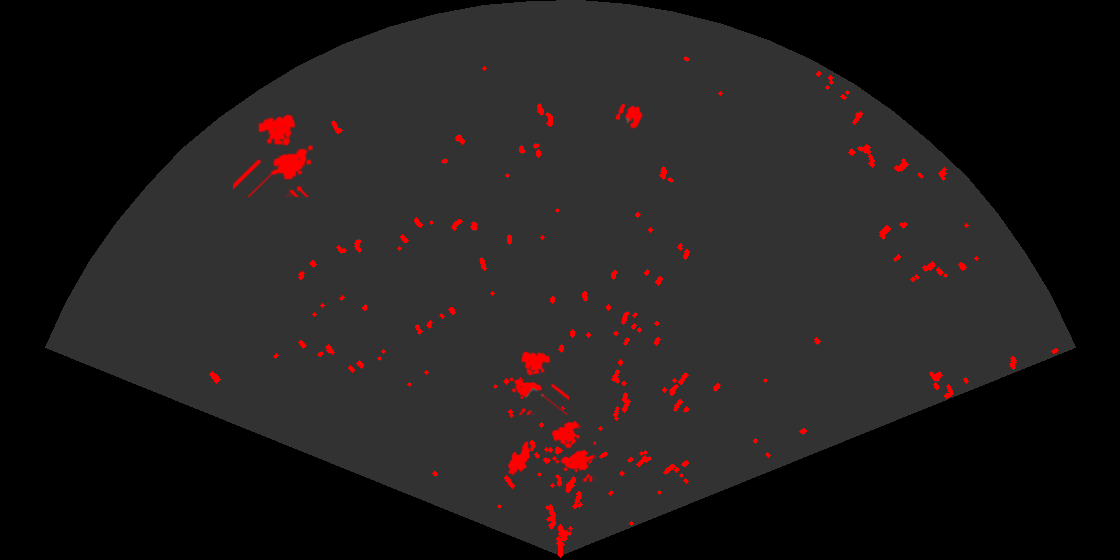AUV: (506, 439, 532, 477)
ball: (614, 102, 644, 131)
cage: (233, 113, 315, 197), (508, 350, 569, 415), (550, 419, 596, 482)
